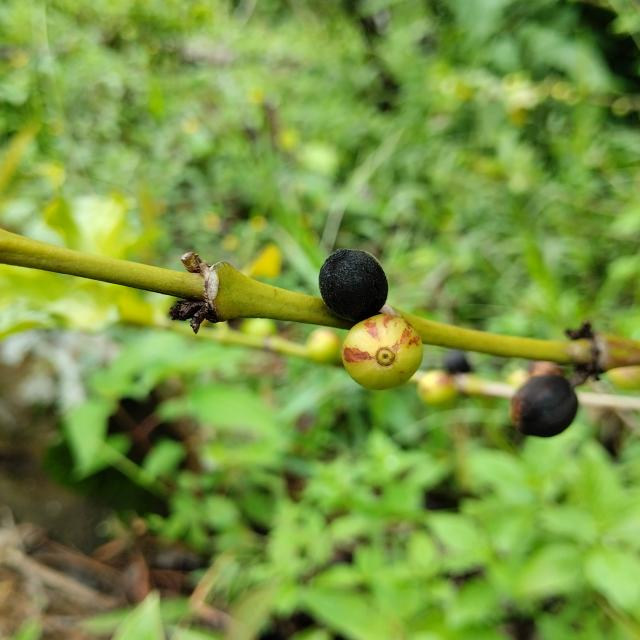red: (342, 314, 423, 390), (319, 249, 389, 322), (511, 375, 579, 438)
